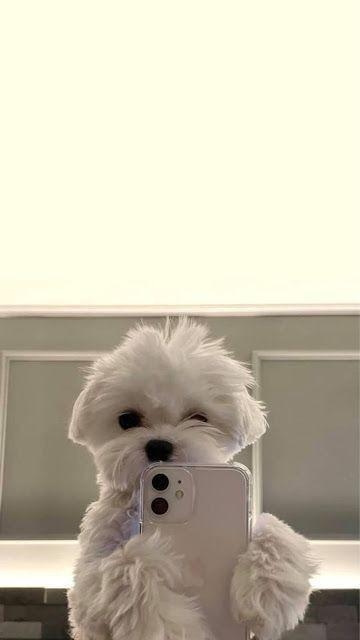puppy-dog: (64, 315, 316, 640)
